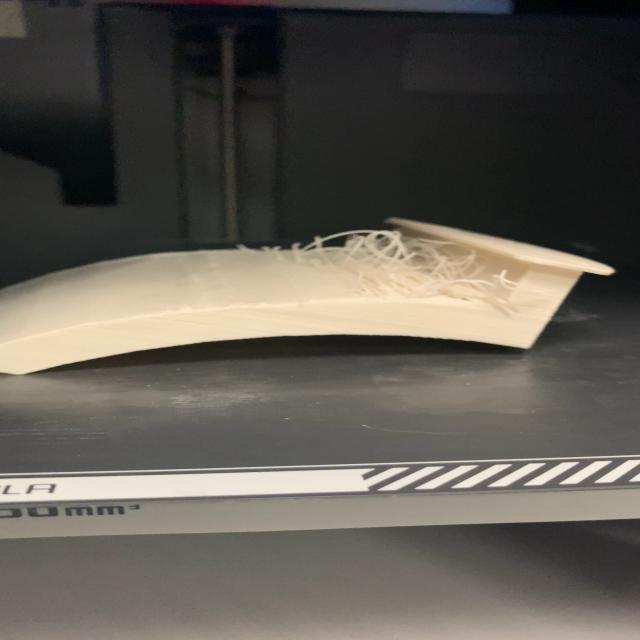spaghetti: (241, 212, 560, 312)
